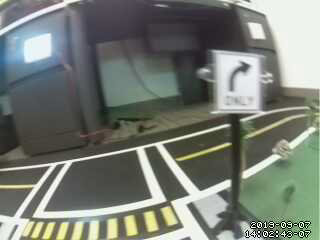Right_only_sign: (211, 49, 258, 108)
